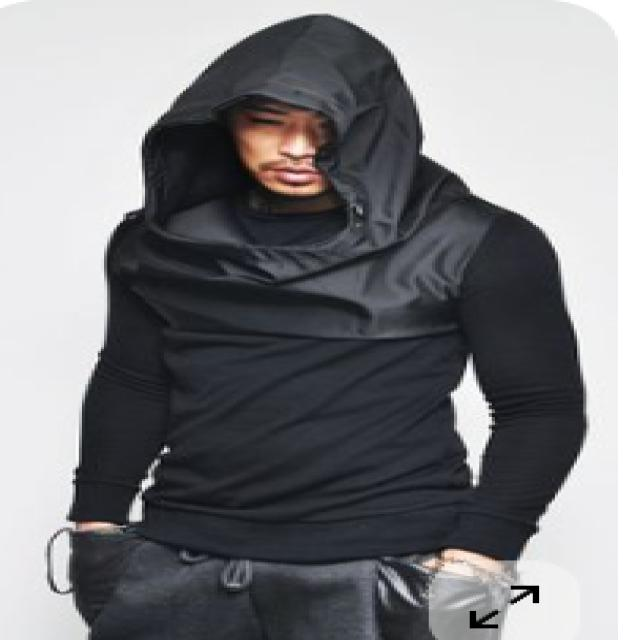4_capucha: (136, 10, 426, 257)
